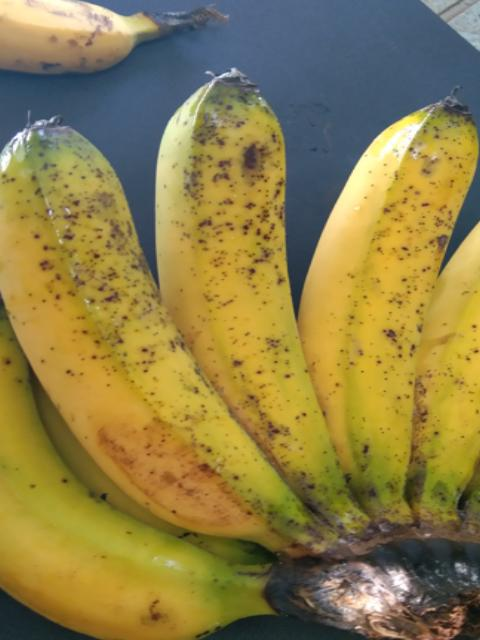freshripe: (0, 403, 232, 634)
ripe: (4, 116, 287, 525), (145, 61, 356, 544), (314, 111, 476, 520), (0, 0, 172, 89)
